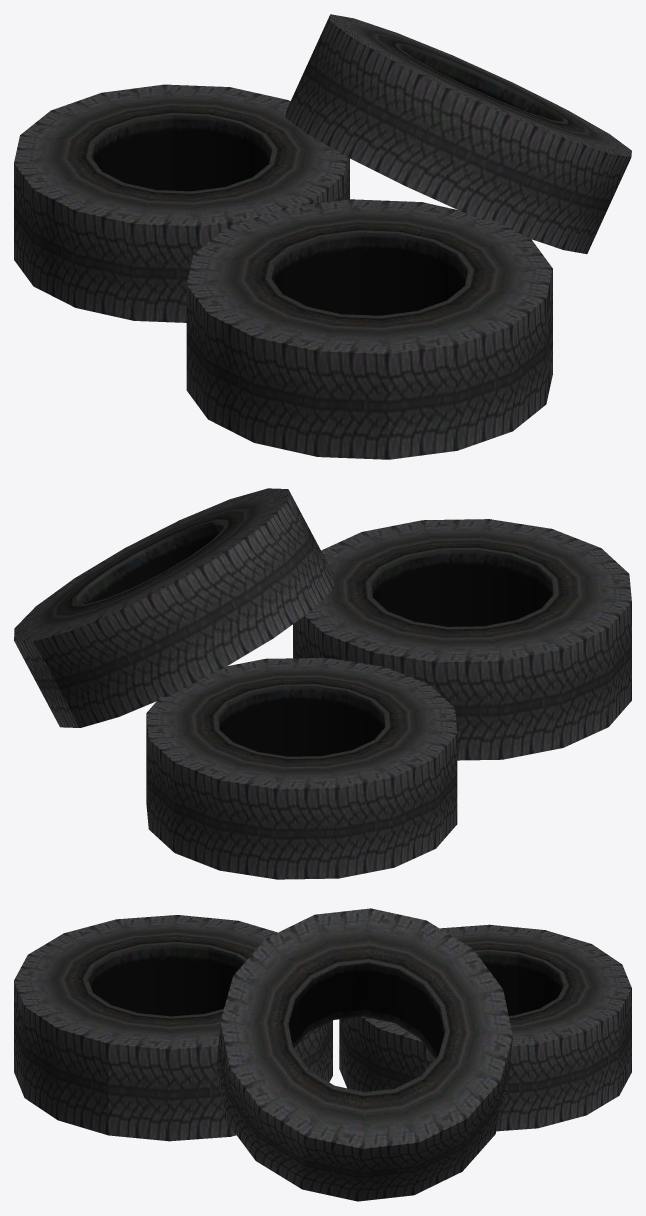
The model's file is tire_three_pile.fbx.
3 renders of one model, top to bottom at view 1: azimuth 30°, elevation 25°; view 2: azimuth 150°, elevation 25°; view 3: azimuth 270°, elevation 25°, orthographic. The views are drawn at different scales.
Visible parts, largest first — view 1: mesh_0; view 2: mesh_0; view 3: mesh_0.
Boxes of the visible parts, box(x1,y1,x2,y2) form: mesh_0: box(14, 14, 631, 459); mesh_0: box(14, 488, 631, 879); mesh_0: box(14, 908, 631, 1201).
Size of the model in its own units: 113 by 50.47 by 137.
1 material, 1 textured.
